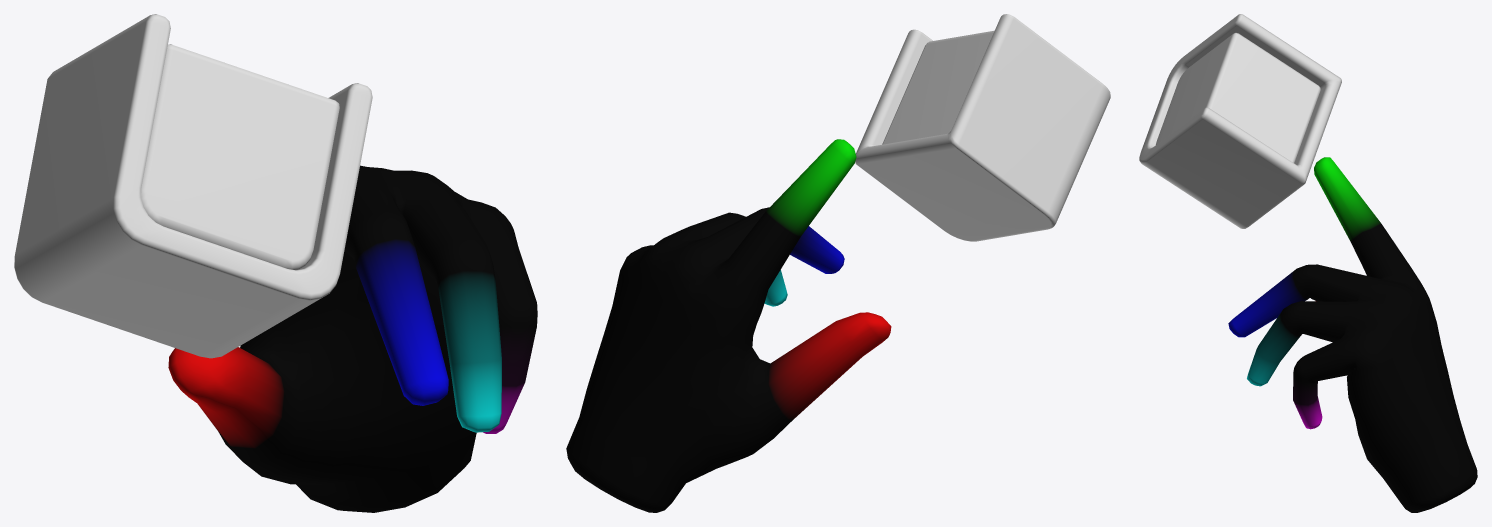
File: Button_Interaction.fbx
3 views of the same model, side by side, from view 1: azimuth 30°, elevation 25°; view 2: azimuth 150°, elevation 25°; view 3: azimuth 270°, elevation 25° (orthographic). The views are drawn at different scales.
Parts seen in each view (by area): view 1: Button_Interaction_Hand, outer, inner; view 2: Button_Interaction_Hand, outer, inner; view 3: Button_Interaction_Hand, outer, inner.
Boxes of the visible parts, x1,y1,x2,y2 form: Button_Interaction_Hand: (168, 165, 537, 512); outer: (14, 14, 372, 358); inner: (141, 44, 339, 270); Button_Interaction_Hand: (566, 139, 891, 512); outer: (855, 14, 1110, 241); inner: (882, 30, 994, 144); Button_Interaction_Hand: (1228, 157, 1477, 512); outer: (1139, 14, 1341, 228); inner: (1155, 33, 1320, 162).
Bounding box in the file's own units: 2.85 × 3.28 × 2.59.
